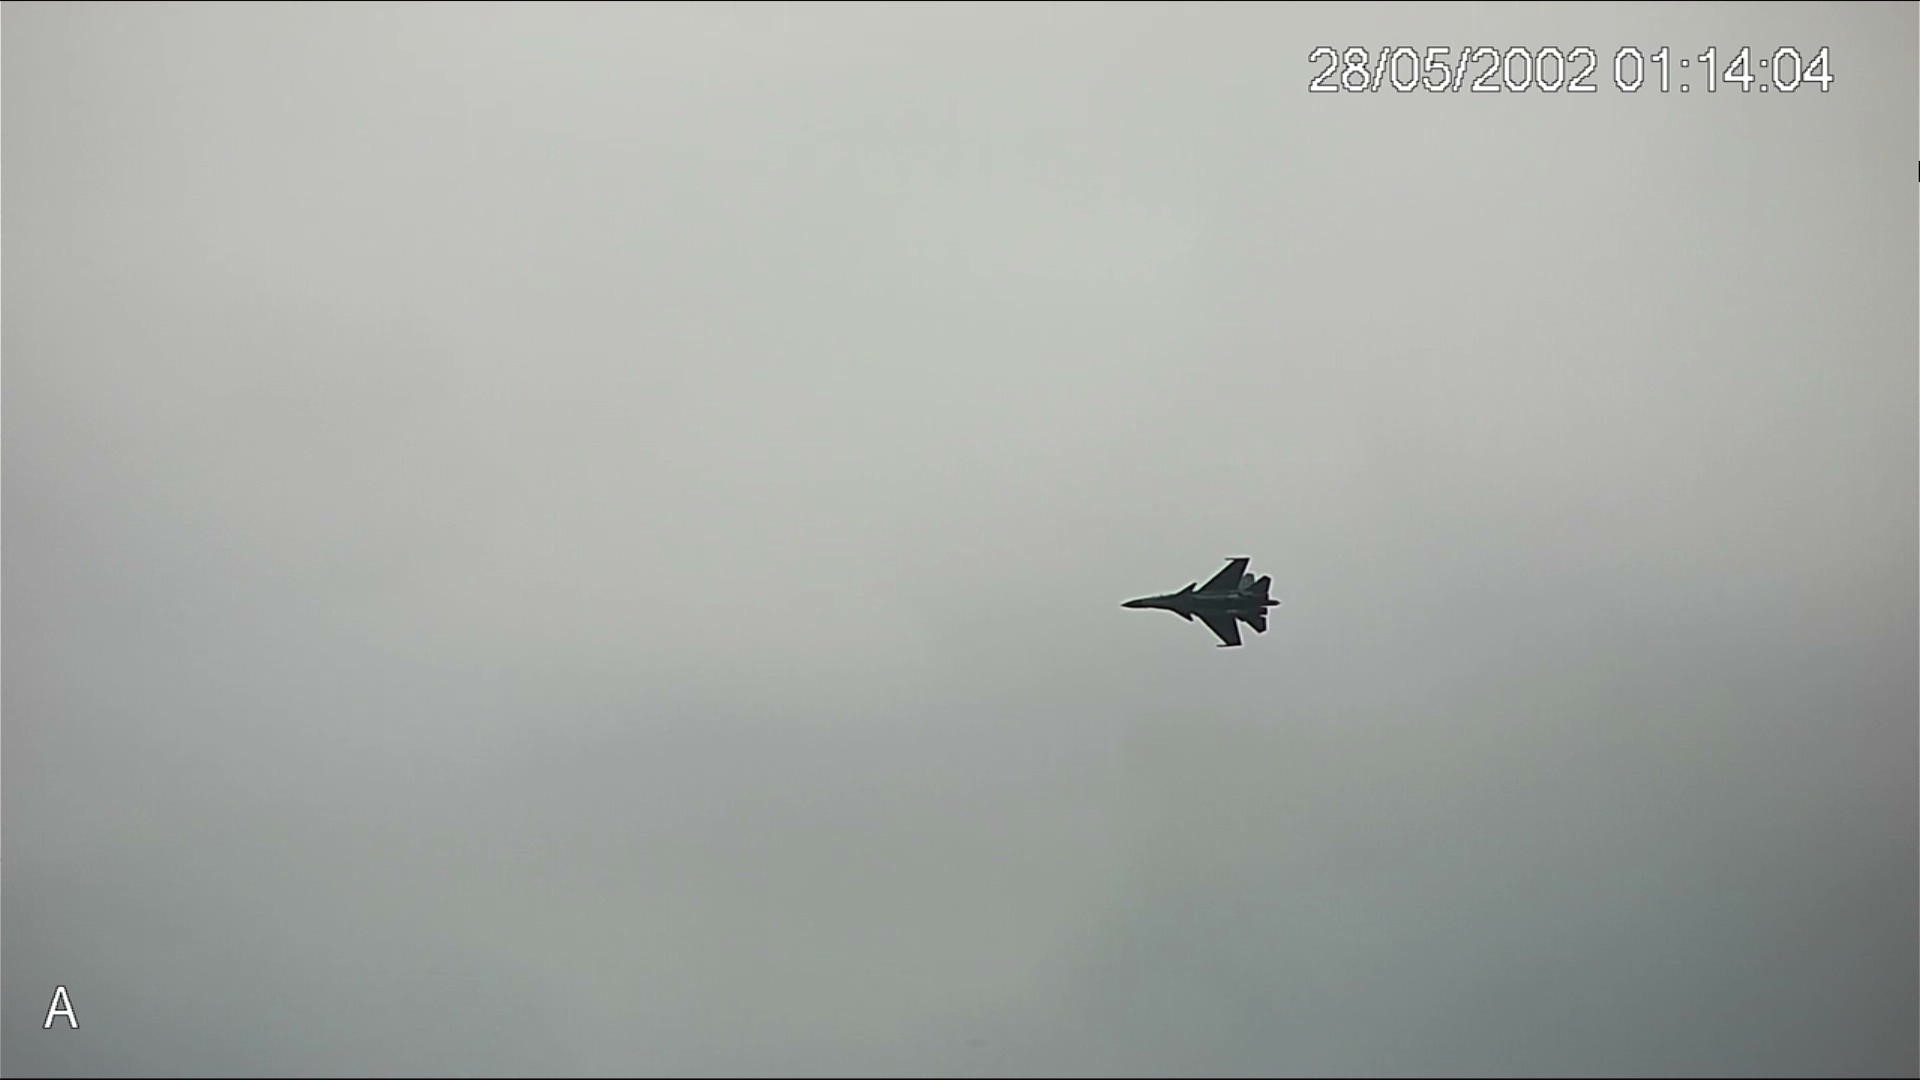SU_30: (1120, 551, 1294, 663)
